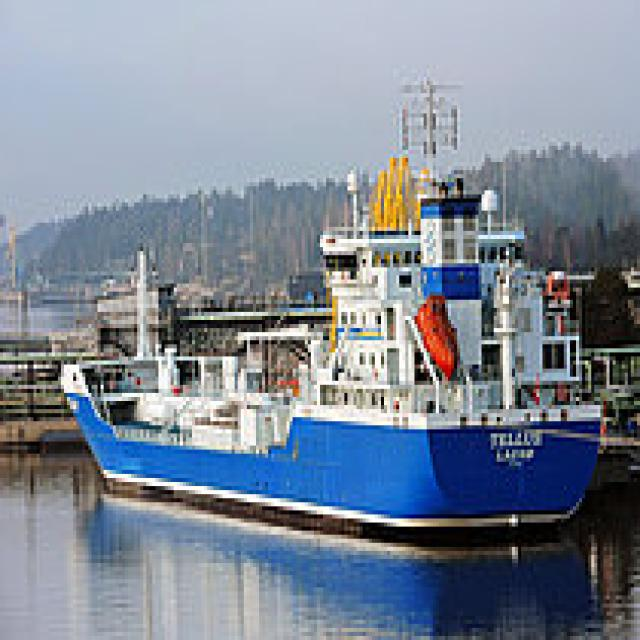Tanker: (55, 162, 606, 551)
